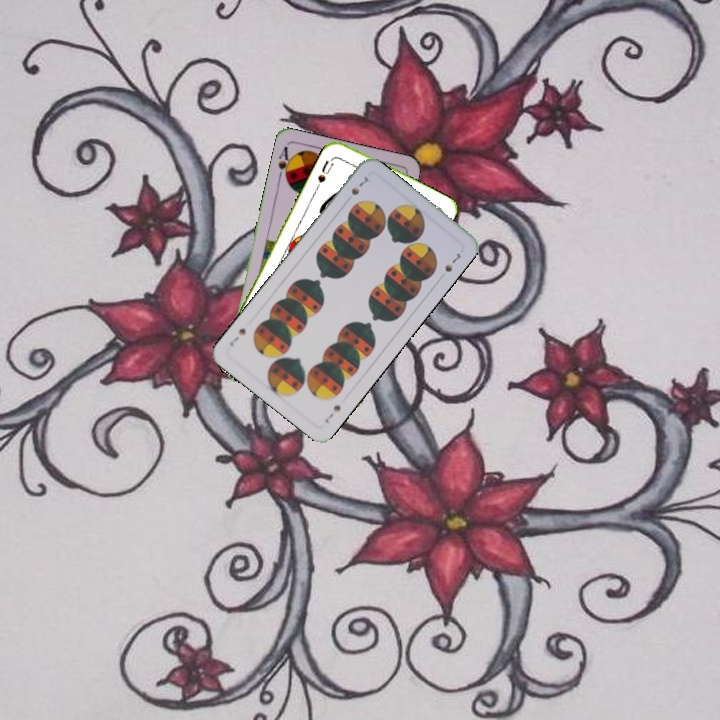S7: (347, 172, 371, 198), (321, 401, 343, 426)
SA: (274, 142, 295, 184)
SU: (313, 156, 336, 191)
